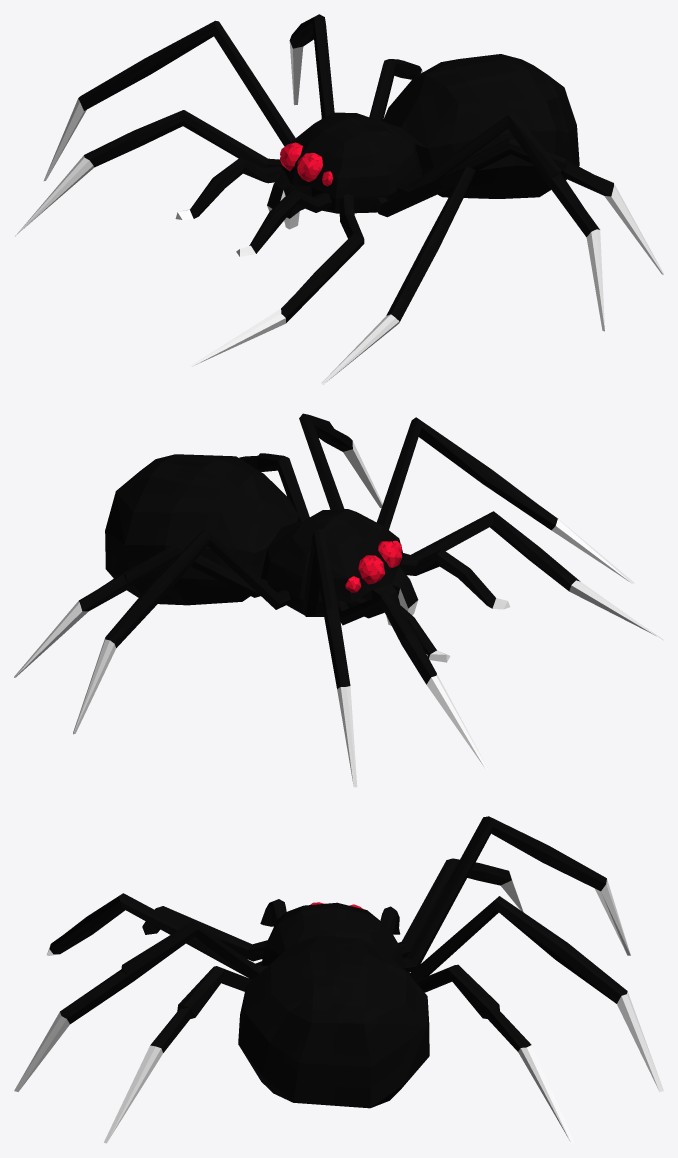
The model's file is spiderIdle13.obj.
The picture shows the model from 3 angles, top to bottom: view 1: azimuth 30°, elevation 25°; view 2: azimuth 150°, elevation 25°; view 3: azimuth 270°, elevation 25°; orthographic projection. The views are drawn at different scales.
Visible parts, largest first — view 1: Cube.003_Cube.004; view 2: Cube.003_Cube.004; view 3: Cube.003_Cube.004.
Boxes of the visible parts, x1=… form: Cube.003_Cube.004: x1=15, y1=14, x2=663, y2=384; Cube.003_Cube.004: x1=14, y1=413, x2=663, y2=787; Cube.003_Cube.004: x1=14, y1=816, x2=663, y2=1143.
Size of the model in its own units: 29.27 by 11.28 by 34.6.
